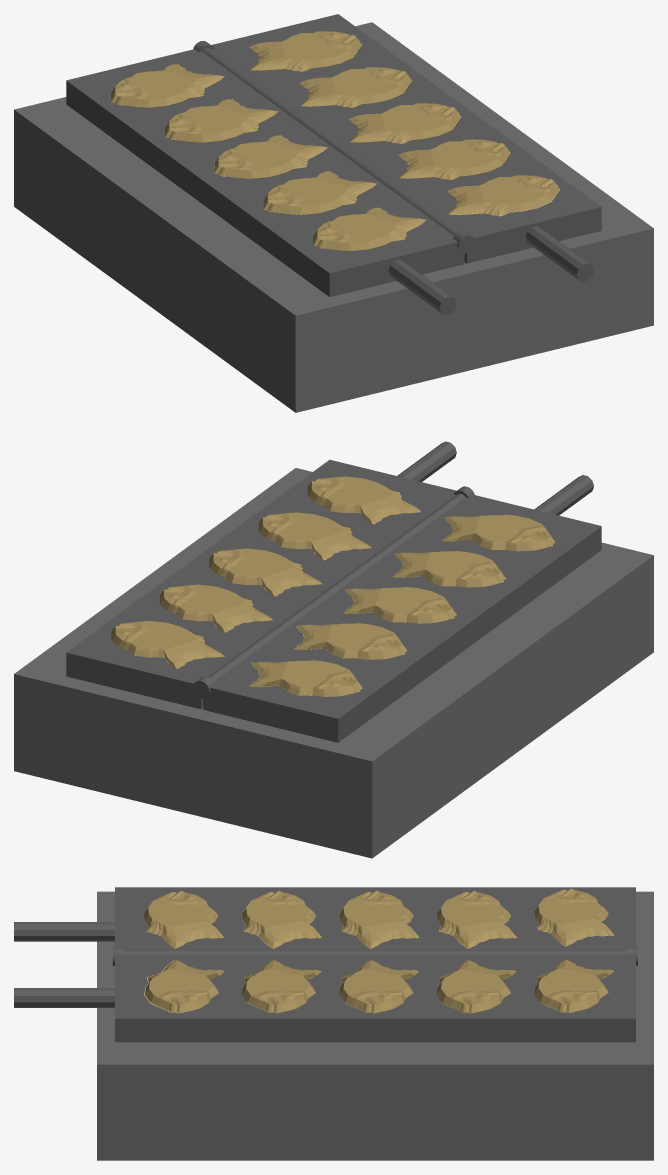
Rendered from TaiyakiMaker 1.fbx.
The picture shows the model from 3 angles, top to bottom: view 1: azimuth 30°, elevation 25°; view 2: azimuth 150°, elevation 25°; view 3: azimuth 270°, elevation 25°; orthographic projection.
Parts seen in each view (by area): view 1: Taiyaki_Maker, L_Pan, R_Pan, Cooked_0 (×2), Cooked_2 (×2), Cooked_1 (×2), Cooked_4 (×2), Cooked_3 (×2); view 2: Taiyaki_Maker, L_Pan, R_Pan, Cooked_4 (×2), Cooked_3 (×2), Cooked_2 (×2), Cooked_1 (×2), Cooked_0 (×2); view 3: Taiyaki_Maker, R_Pan, L_Pan, Cooked_4 (×2), Cooked_3 (×2), Cooked_2 (×2), Cooked_0 (×2), Cooked_1 (×2).
Part boxes in pixels (left/top/right/bottom): Taiyaki_Maker: left=14, top=22, right=653, bottom=412; L_Pan: left=66, top=49, right=464, bottom=315; R_Pan: left=211, top=14, right=601, bottom=281; Cooked_0 (×2): left=111, top=31, right=362, bottom=107; Cooked_2 (×2): left=214, top=103, right=461, bottom=178; Cooked_1 (×2): left=164, top=67, right=412, bottom=142; Cooked_4 (×2): left=313, top=175, right=559, bottom=251; Cooked_3 (×2): left=263, top=139, right=510, bottom=214; Taiyaki_Maker: left=14, top=468, right=653, bottom=858; L_Pan: left=203, top=475, right=601, bottom=742; R_Pan: left=66, top=441, right=456, bottom=709; Cooked_4 (×2): left=307, top=476, right=555, bottom=551; Cooked_3 (×2): left=258, top=512, right=505, bottom=587; Cooked_2 (×2): left=209, top=548, right=456, bottom=623; Cooked_1 (×2): left=159, top=584, right=407, bottom=659; Cooked_0 (×2): left=111, top=621, right=362, bottom=696; Taiyaki_Maker: left=97, top=891, right=653, bottom=1160; R_Pan: left=14, top=955, right=635, bottom=1042; L_Pan: left=14, top=887, right=635, bottom=949; Cooked_4 (×2): left=144, top=890, right=224, bottom=1013; Cooked_3 (×2): left=242, top=890, right=321, bottom=1013; Cooked_2 (×2): left=339, top=890, right=419, bottom=1013; Cooked_0 (×2): left=534, top=888, right=613, bottom=1012; Cooked_1 (×2): left=437, top=890, right=516, bottom=1013.
Bounding box in the file's own units: 208 × 72.28 × 325.
